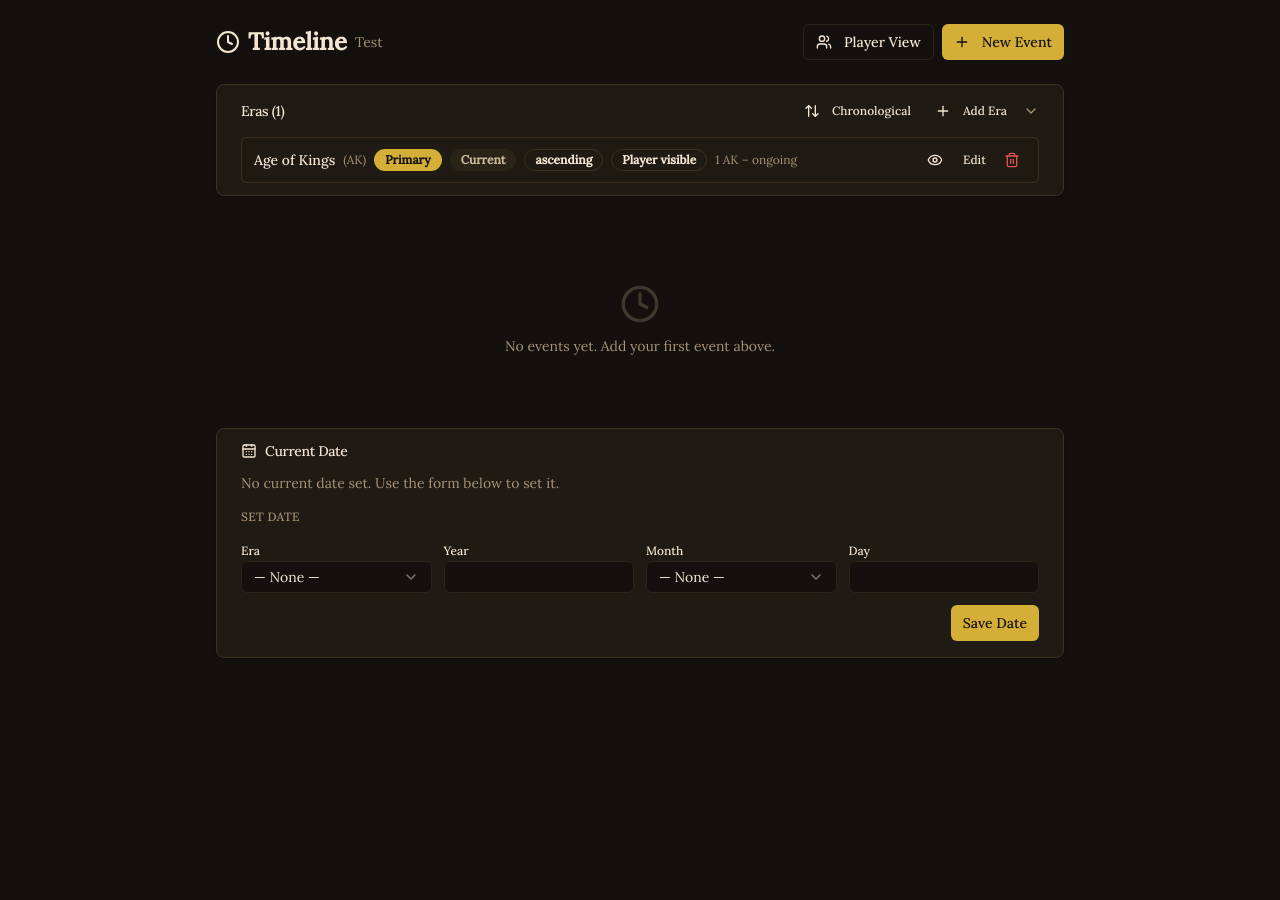
Test: TimelinePage — GM actions › opens create event dialog on New Event click
Click the button "New Event": click(1003, 42) [942,24,1064,60]
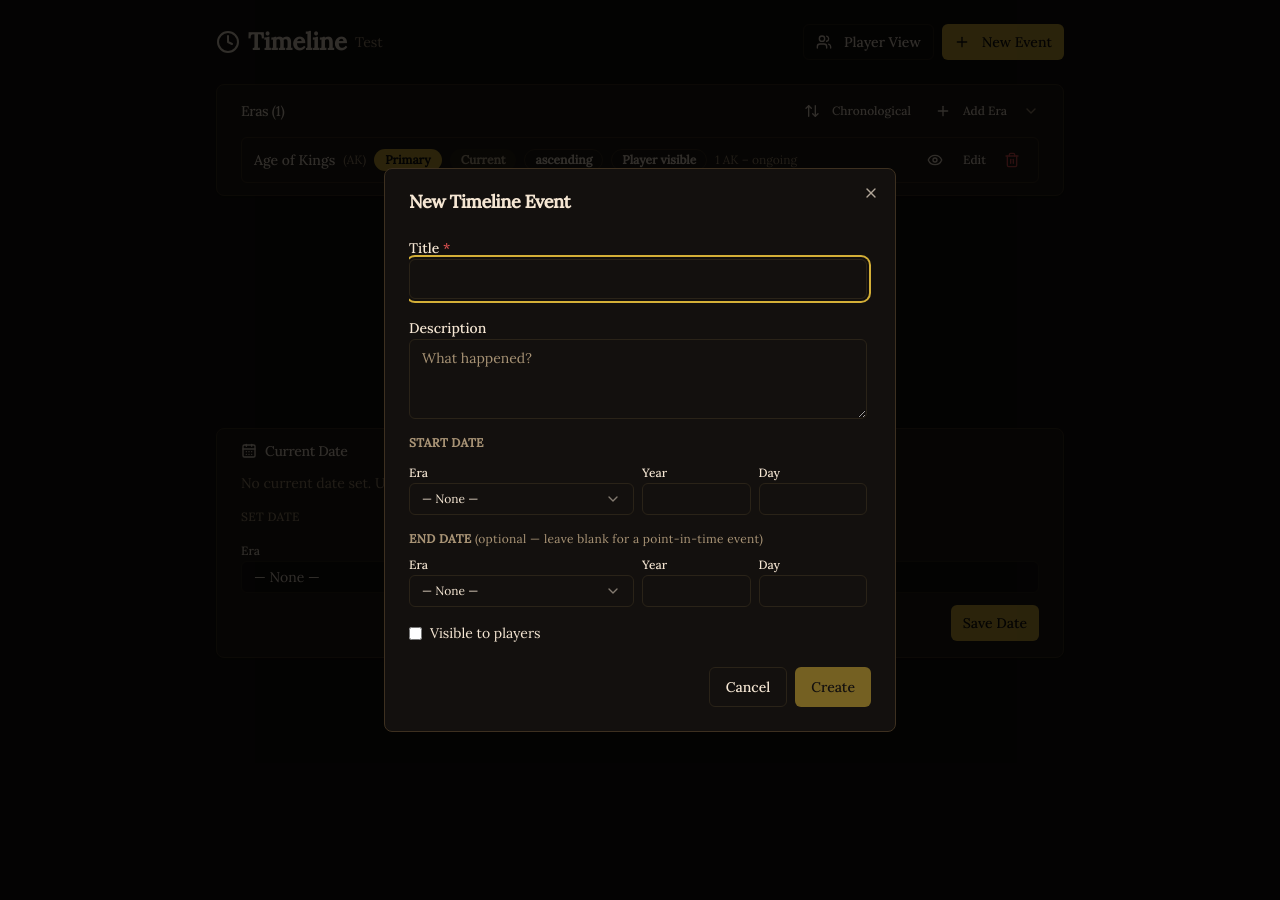
expect the heading "New Timeline Event" is shown: met, box [409,190,570,213]
